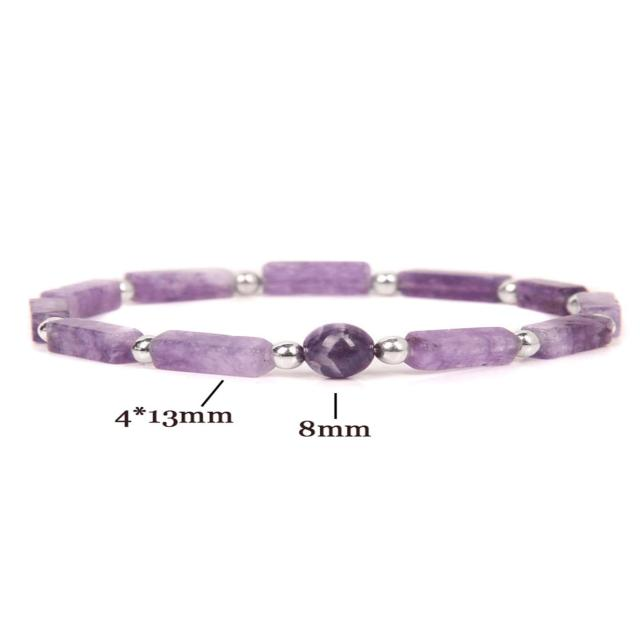bracelet: (0, 220, 640, 482)
